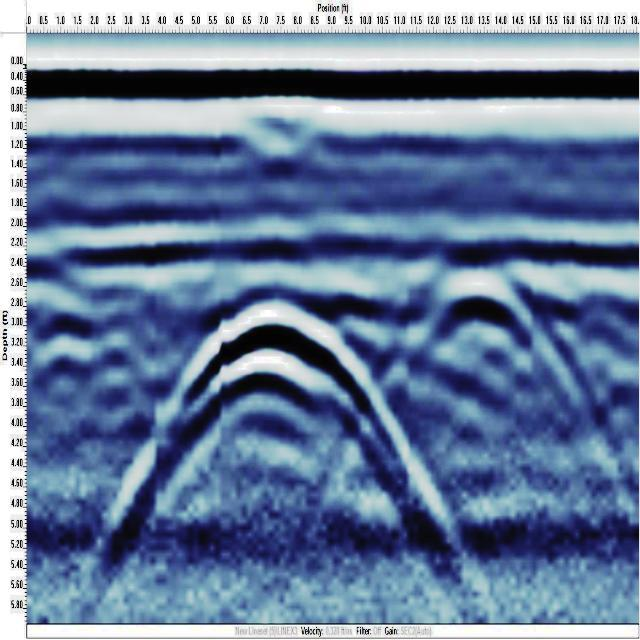hyperbola: (84, 285, 462, 606), (326, 268, 634, 530)
